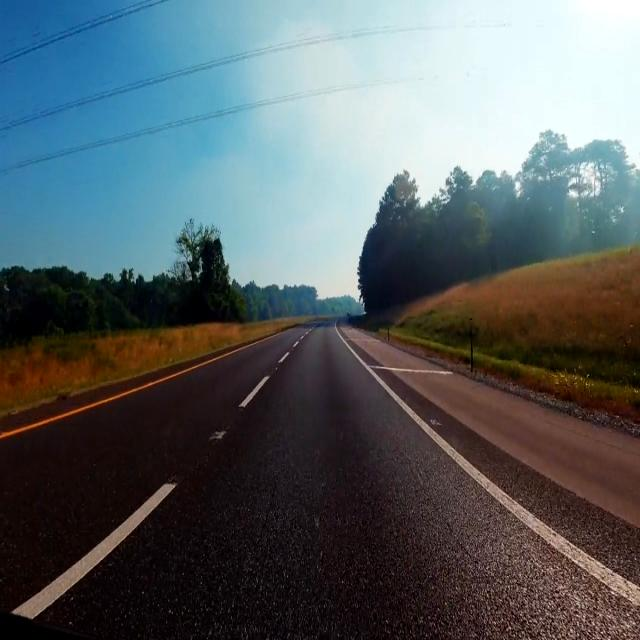lane: (354, 354, 640, 607), (14, 482, 175, 619), (239, 377, 269, 406), (279, 351, 290, 361)
road: (0, 327, 640, 636), (383, 372, 640, 585)
